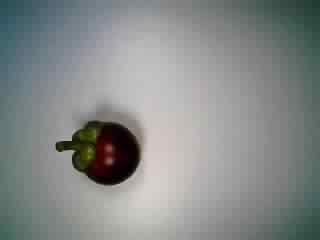mangosteen: (54, 117, 141, 187)
